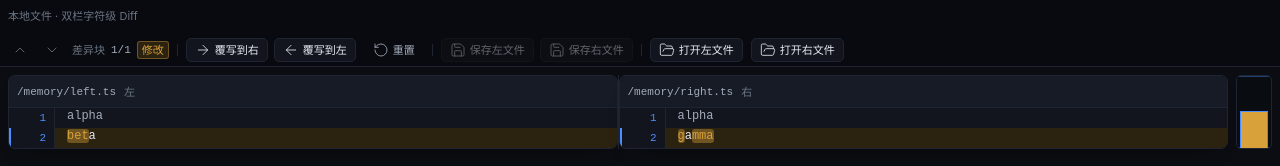
Scenario: in-place save and dirty marker › marks the overwritten side dirty and clears it on reset
Check: the text "已修改（未保存）" is not shown
Click the button "覆写到右". click: [227, 50]
box: [186,38,268,62]
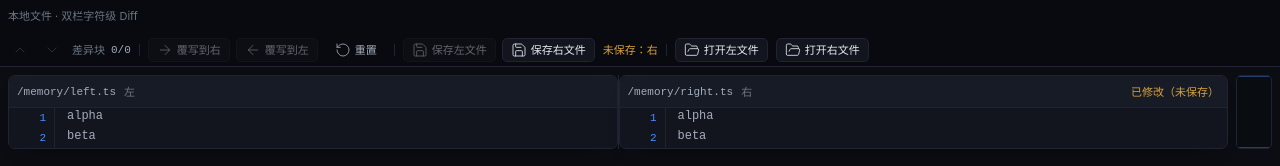
Check: the text "未保存：右" is shown, box [603,42,658,58]
Check: the text "已修改（未保存）" is shown once, box [1131,84,1219,100]
Check: the button "保存右文件" is enabled, box [502,38,595,62]
Click the button "重置". click: [356, 50]
box: [326,38,386,62]
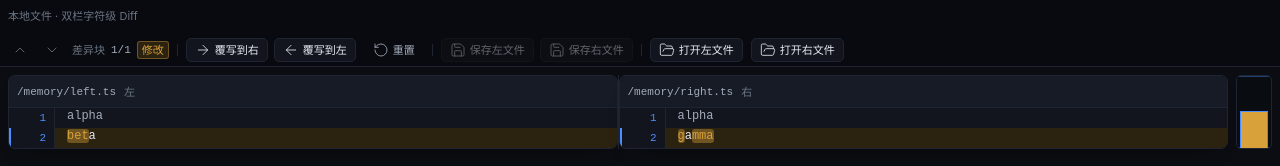
Check: the text "未保存：右" is gone
Check: the text "已修改（未保存）" is gone
